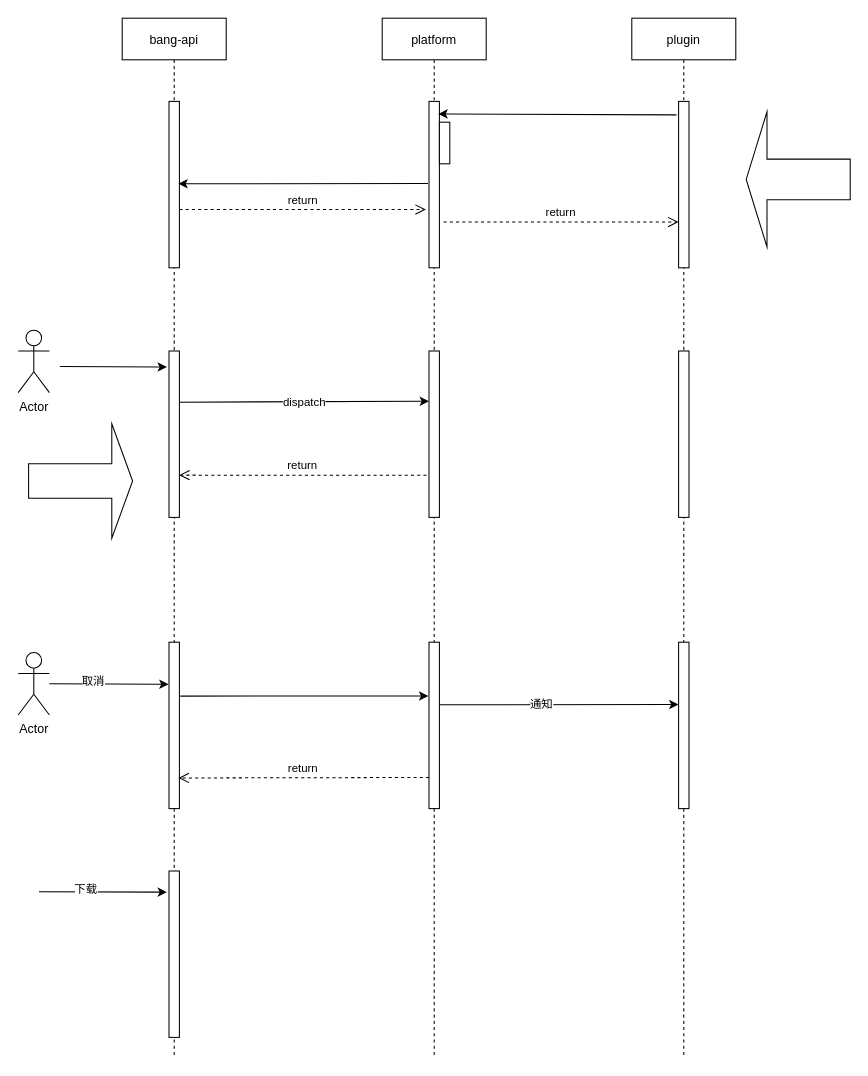
This 868x1076 diagram has some shape labels left out. Here are the shapes that lost their labels. From the top down, the box of each, then its label:
(745, 111, 850, 247): 创建Process 完成Process
(28, 423, 133, 538): 获取标题 查看结果
